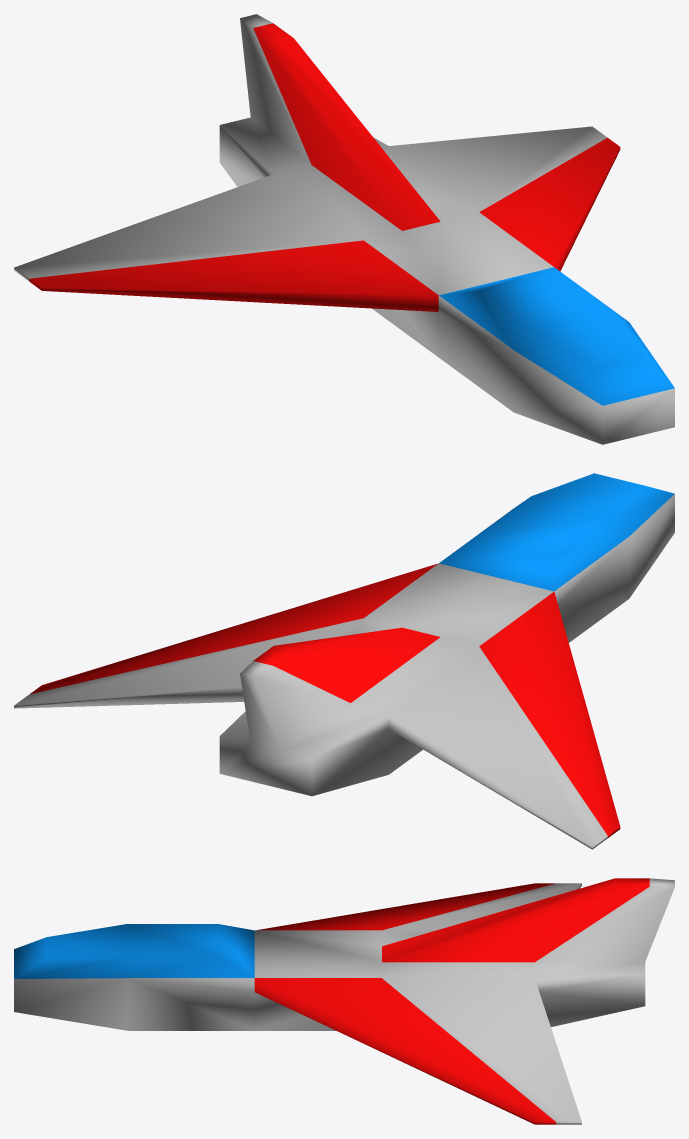
File: Ship.fbx
3 views of the same model, one above another, from view 1: azimuth 30°, elevation 25°; view 2: azimuth 150°, elevation 25°; view 3: azimuth 270°, elevation 25° (orthographic). The views are drawn at different scales.
Visible parts, largest first — view 1: cube1; view 2: cube1; view 3: cube1.
Part boxes in pixels (bbox=[...]): cube1: bbox=[14, 14, 674, 444]; cube1: bbox=[14, 473, 674, 849]; cube1: bbox=[14, 878, 674, 1124].
Bounding box in the file's own units: 1.28 × 0.312 × 1.5.
Materials: 1 (1 with a texture image).
